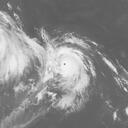cyclone: (44, 46, 90, 93)
